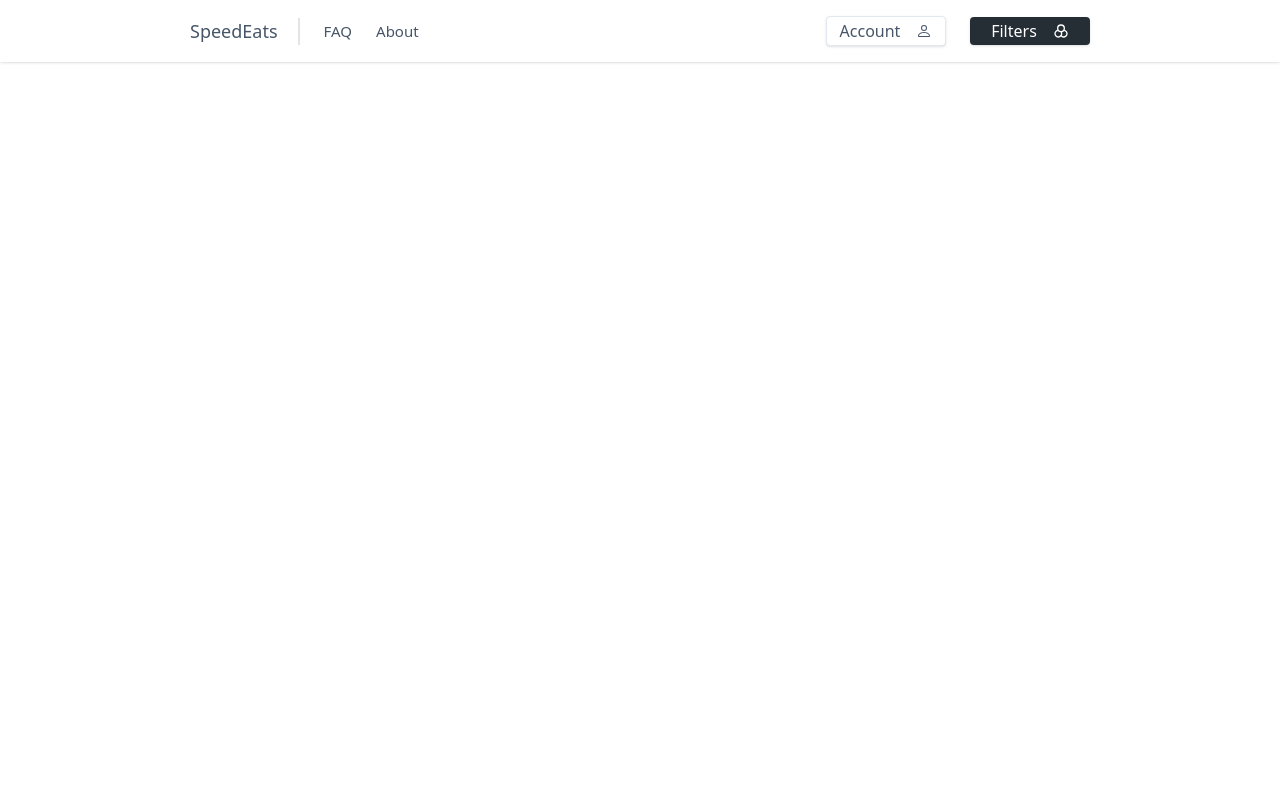
it: Render navbar dropdowns/buttons › should render the filter dropdown
Click the button with test id "navbar-filter__button". click: coordinates (1030, 31)
box: [970,17,1090,45]
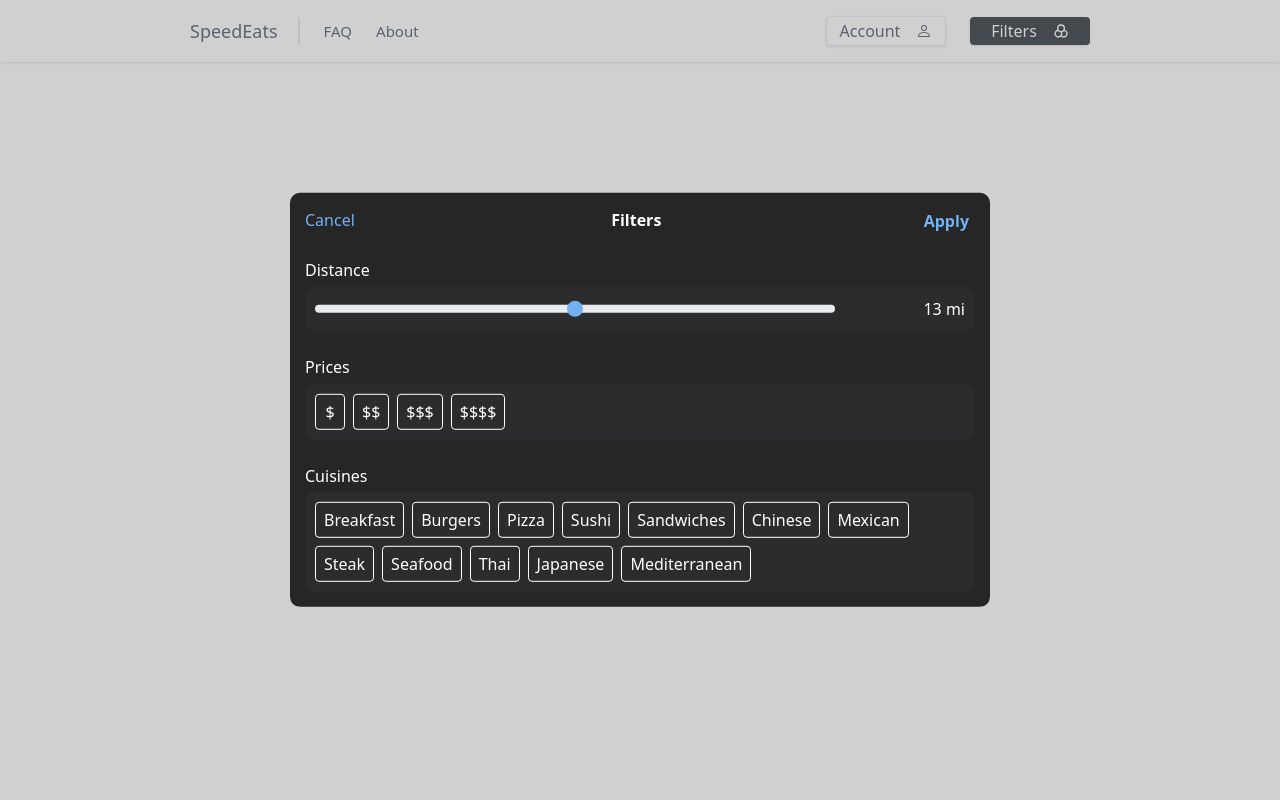
Expected: the element with test id "filter-dropdown" is shown
